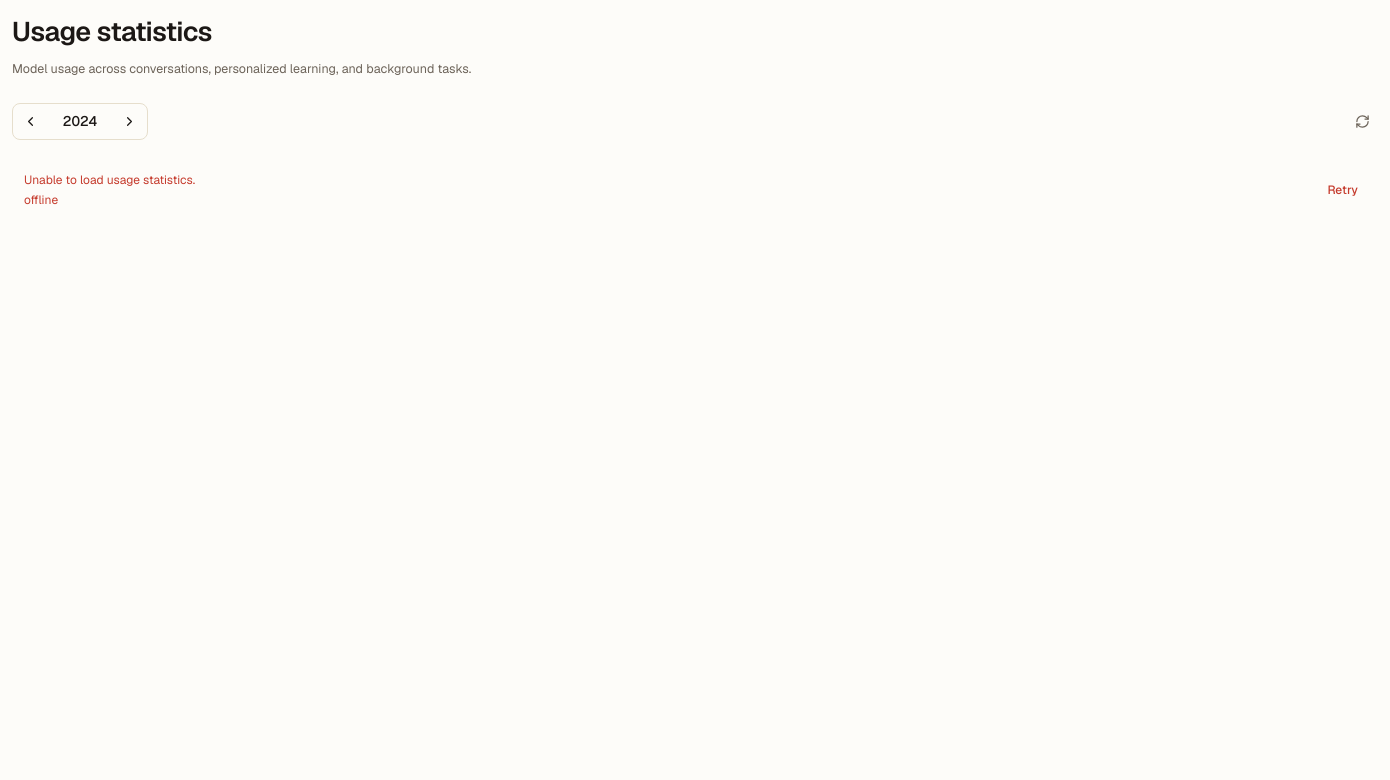
shows errors and retries instead of presenting failure as zero usage
The image size is (1390, 780).
Expected: the message shows "Unable to load usage statistics.", [24,172,195,188]
Expected: the message shows "offline", [24,192,58,208]
Click the button "Retry": coordinates (1343, 190) [1319,178,1366,202]
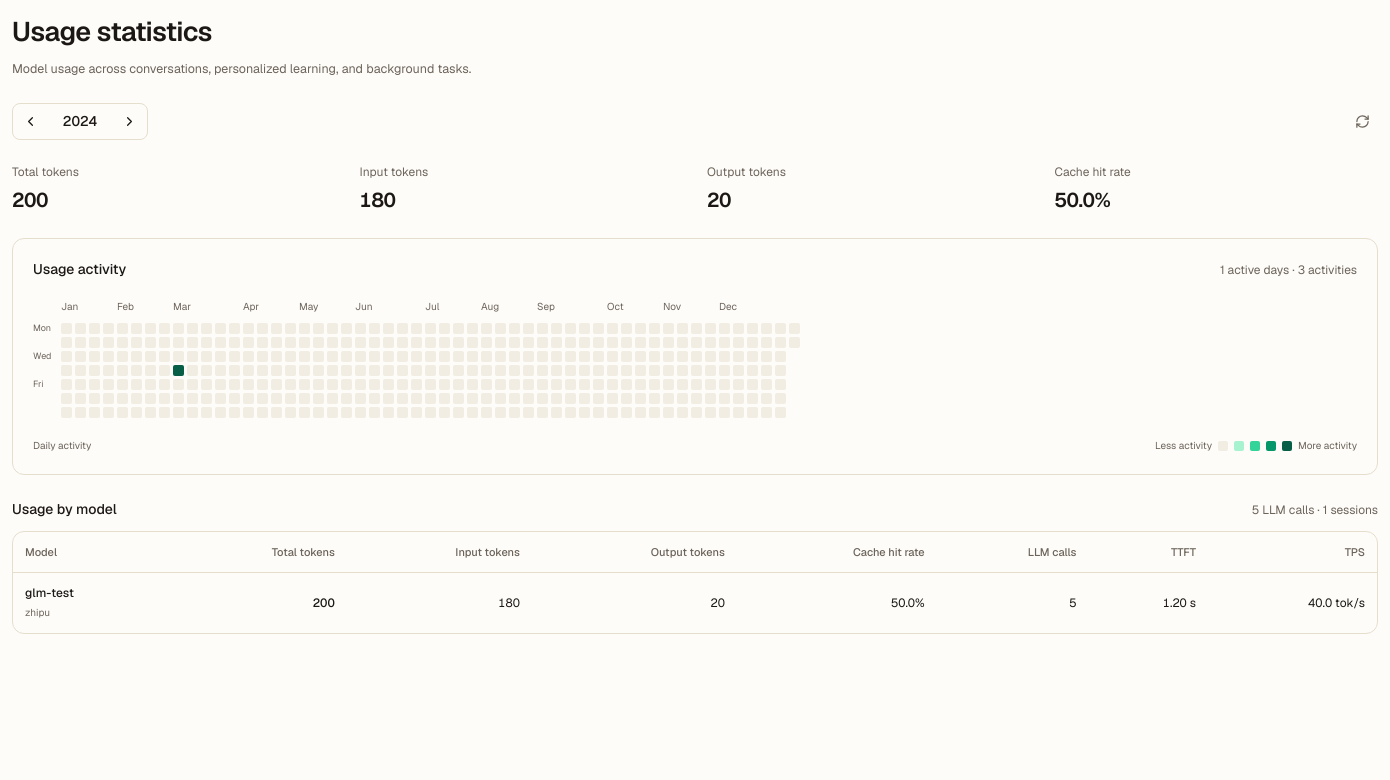
Now the text "glm-test" is shown, box [25,585,74,601]
